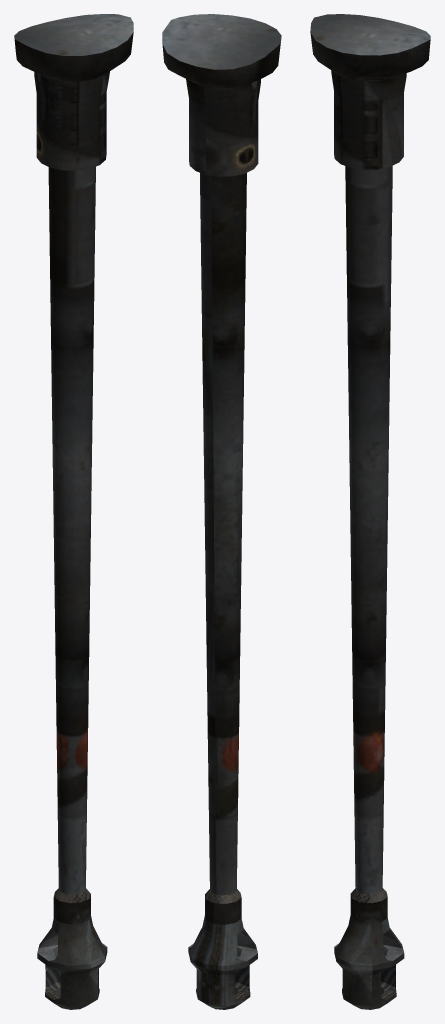
File: Gun.obj
The picture shows the model from 3 angles, left to right: view 1: azimuth 30°, elevation 25°; view 2: azimuth 150°, elevation 25°; view 3: azimuth 330°, elevation 25°; orthographic projection.
Parts seen in each view (by area): view 1: 3D_Object_1; view 2: 3D_Object_1; view 3: 3D_Object_1.
Part boxes in pixels (box(x1,y1,x2,y2)): 3D_Object_1: box(14, 14, 133, 1009); 3D_Object_1: box(162, 14, 281, 1009); 3D_Object_1: box(310, 14, 430, 1009).
Size of the model in its own units: 0.742 by 6.42 by 0.649.
